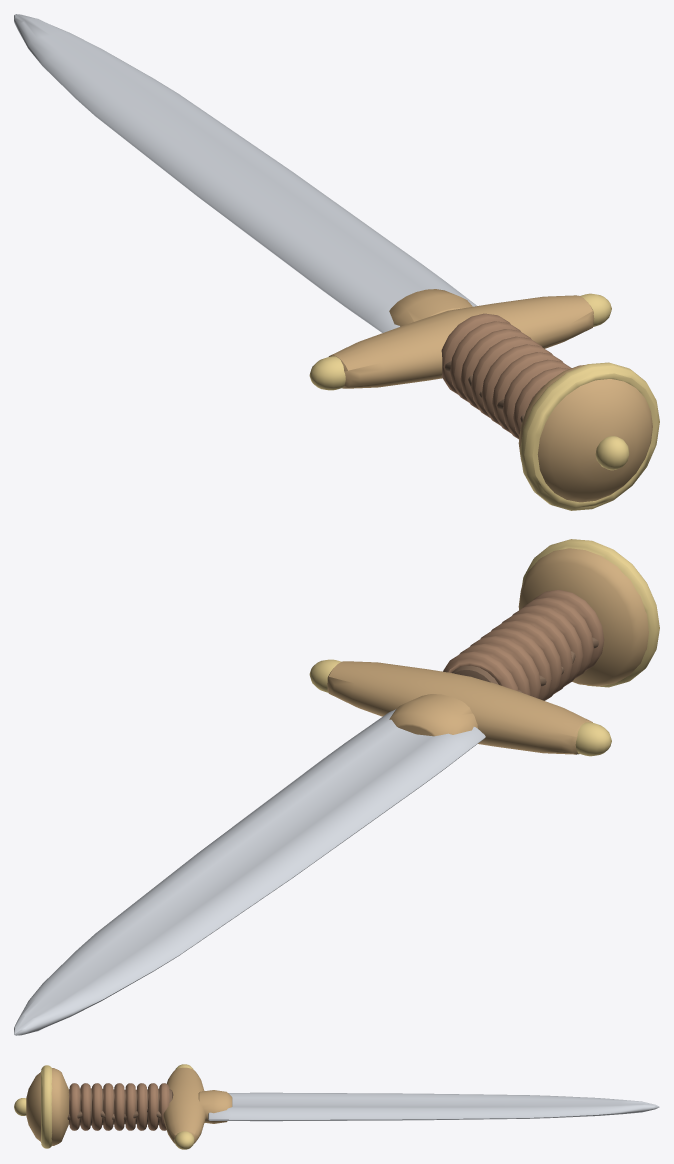
Rendered from th31_schwert_kurz.glb.
3 renders of one model, top to bottom at view 1: azimuth 30°, elevation 25°; view 2: azimuth 150°, elevation 25°; view 3: azimuth 270°, elevation 25°, orthographic. The views are drawn at different scales.
Visible parts, largest first — view 1: Klinge, Dreh.003, Dreh.001, Torus.013, Dreh, Torus.004, Torus.007, Torus.002, Torus.005, Torus.006, Torus.003, Torus.008 (+3 smaller); view 2: Klinge, Dreh.001, Dreh.003, Dreh, Torus.013, Torus.001, Torus.004, Torus.003, Torus.002, Torus, Torus.008, Torus.005 (+3 smaller); view 3: Klinge, Dreh.001, Dreh.003, Torus.013, Dreh, Dreh.002, Torus.004, Torus.001, Torus, Torus.005, Torus.003, Torus.006 (+5 smaller).
Boxes of the visible parts, x1=… form: Klinge: x1=14, y1=14, x2=476, y2=332; Dreh.003: x1=518, y1=365, x2=652, y2=502; Dreh.001: x1=328, y1=295, x2=594, y2=388; Torus.013: x1=520, y1=362, x2=659, y2=510; Dreh: x1=389, y1=289, x2=472, y2=326; Torus.004: x1=481, y1=344, x2=552, y2=425; Torus.007: x1=450, y1=321, x2=520, y2=402; Torus.002: x1=502, y1=359, x2=571, y2=439; Torus.005: x1=471, y1=336, x2=541, y2=417; Torus.006: x1=460, y1=329, x2=531, y2=410; Torus.003: x1=492, y1=352, x2=563, y2=433; Torus.008: x1=441, y1=313, x2=510, y2=394; Klinge: x1=14, y1=709, x2=485, y2=1035; Dreh.001: x1=327, y1=661, x2=592, y2=754; Dreh.003: x1=518, y1=548, x2=648, y2=686; Dreh: x1=389, y1=694, x2=477, y2=736; Torus.013: x1=522, y1=539, x2=659, y2=687; Torus.001: x1=523, y1=597, x2=593, y2=678; Torus.004: x1=491, y1=620, x2=562, y2=700; Torus.003: x1=501, y1=613, x2=572, y2=694; Torus.002: x1=512, y1=605, x2=583, y2=686; Torus: x1=533, y1=589, x2=604, y2=670; Torus.008: x1=443, y1=651, x2=518, y2=691; Torus.005: x1=480, y1=628, x2=551, y2=700; Klinge: x1=208, y1=1092, x2=659, y2=1121; Dreh.001: x1=163, y1=1067, x2=205, y2=1143; Dreh.003: x1=26, y1=1068, x2=68, y2=1145; Torus.013: x1=41, y1=1065, x2=52, y2=1148; Dreh: x1=198, y1=1090, x2=232, y2=1123; Dreh.002: x1=69, y1=1088, x2=173, y2=1125; Torus.004: x1=114, y1=1083, x2=124, y2=1130; Torus.001: x1=80, y1=1083, x2=90, y2=1130; Torus: x1=69, y1=1083, x2=79, y2=1130; Torus.005: x1=125, y1=1083, x2=135, y2=1130; Torus.003: x1=103, y1=1083, x2=113, y2=1130; Torus.006: x1=137, y1=1083, x2=146, y2=1130.
Bounding box in the file's own units: 0.2 × 0.0918 × 0.7045.
